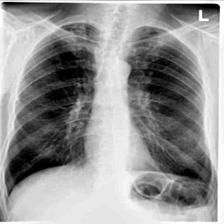tuberculosis: (0, 18, 216, 219)
